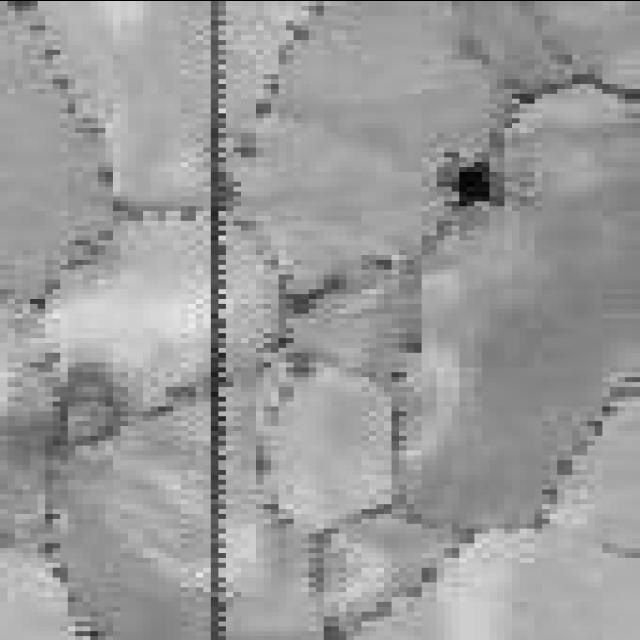good_void: (418, 150, 535, 217)
